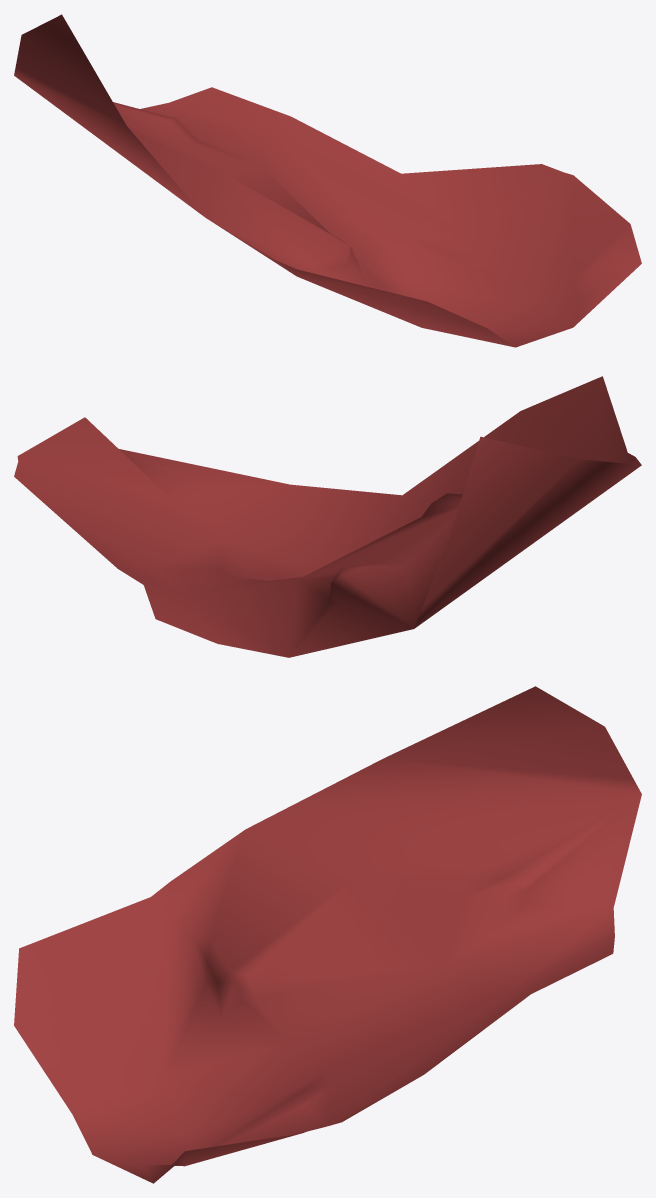
The model's file is lateral-head-of-flexor-hallucis-brevis-ol.glb.
3 views of the same model, one above another, from view 1: azimuth 30°, elevation 25°; view 2: azimuth 150°, elevation 25°; view 3: azimuth 270°, elevation 25° (orthographic). The views are drawn at different scales.
Parts seen in each view (by area): view 1: Lateral head of flexor hallucis brevis.ol; view 2: Lateral head of flexor hallucis brevis.ol; view 3: Lateral head of flexor hallucis brevis.ol.
Part boxes in pixels (<box>): Lateral head of flexor hallucis brevis.ol: <box>14,14,641,347</box>; Lateral head of flexor hallucis brevis.ol: <box>14,376,641,657</box>; Lateral head of flexor hallucis brevis.ol: <box>14,686,641,1183</box>.
Size of the model in its own units: 0.0157 by 0.00933 by 0.0174.
